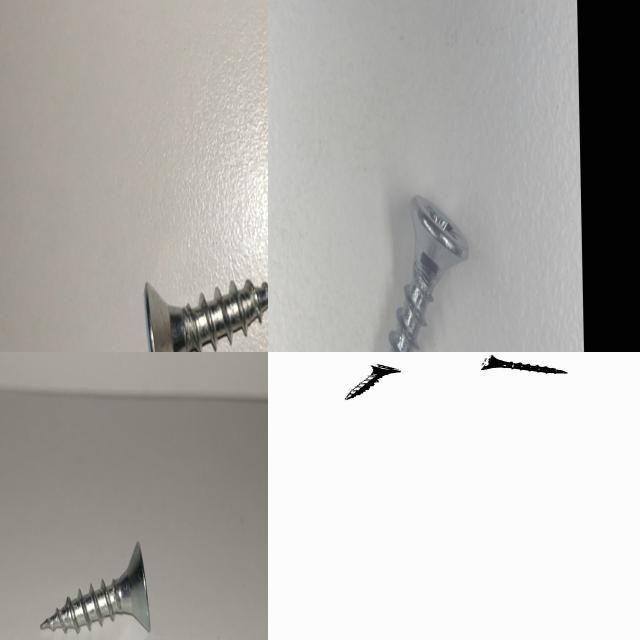Screw: (389, 195, 469, 352), (41, 541, 151, 633), (144, 280, 268, 352), (343, 365, 400, 400), (480, 355, 566, 374)
